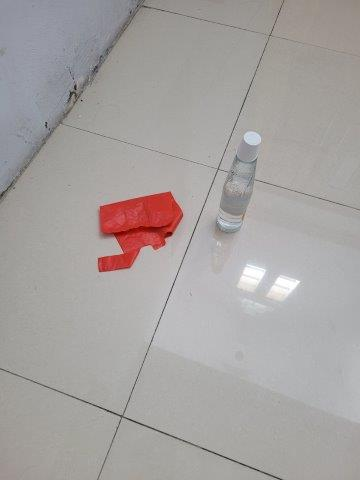botolkaca: (212, 132, 261, 234)
plastik: (91, 191, 184, 273)
